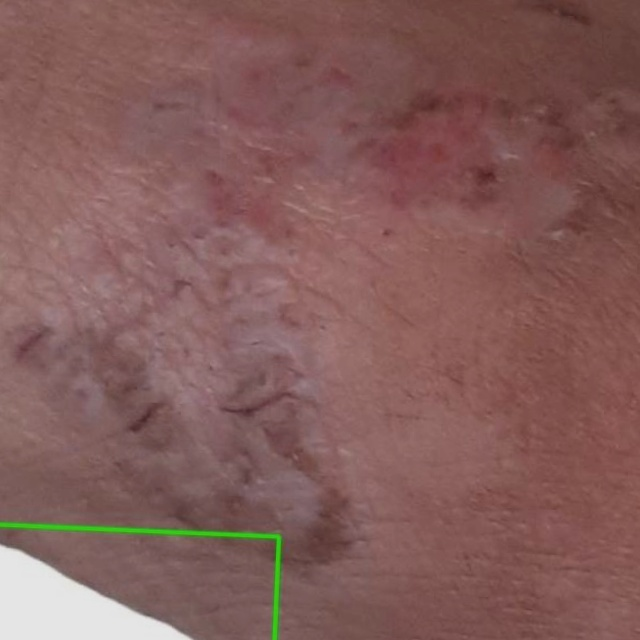Contact Dermatitis: (0, 524, 278, 639)
